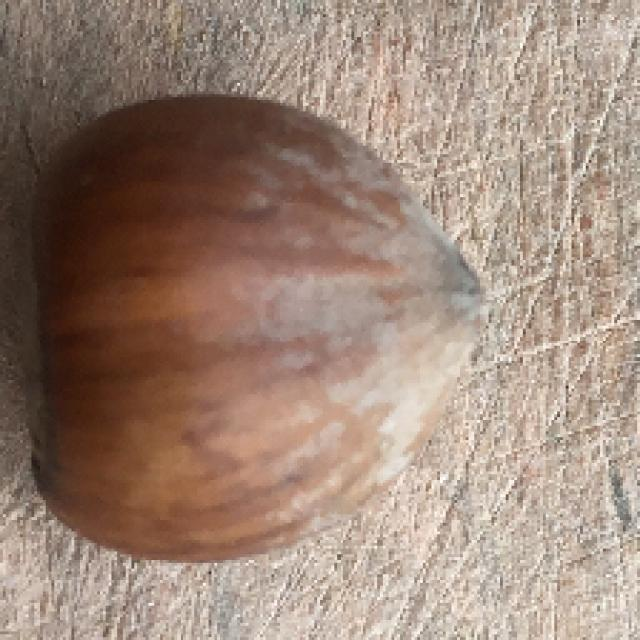qualityHazelnut: (22, 88, 495, 566)
